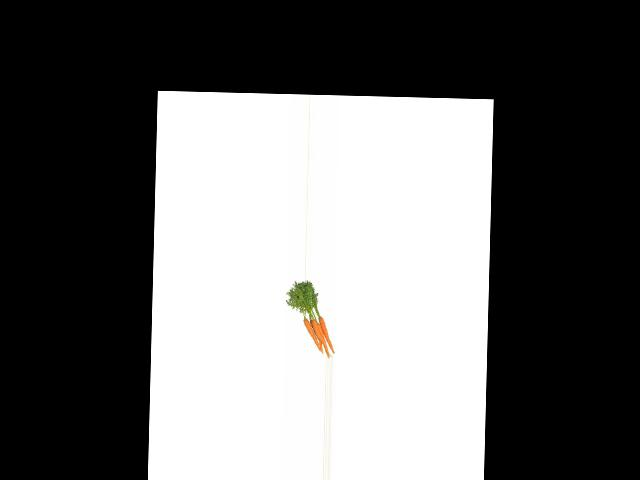carrot: (316, 314, 339, 354)
